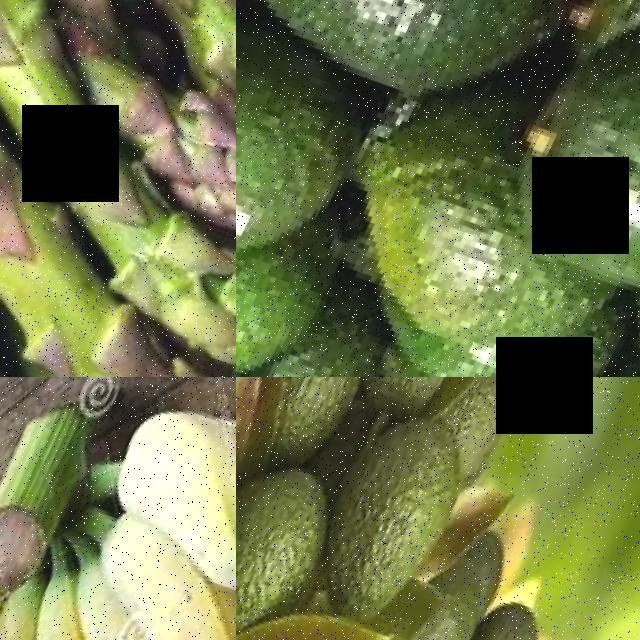asparagus: (0, 0, 236, 377)
avocado: (300, 63, 640, 377), (236, 0, 600, 161), (475, 0, 640, 354), (236, 0, 414, 316), (284, 399, 501, 640), (236, 377, 406, 517), (236, 452, 359, 640), (409, 377, 550, 516), (236, 195, 338, 377), (331, 377, 513, 438), (236, 0, 525, 26), (452, 595, 568, 640)
banana: (0, 377, 236, 640)
